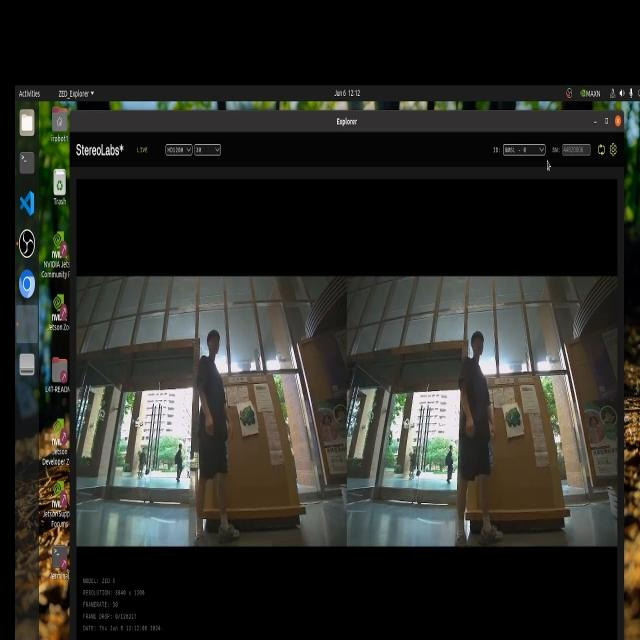green: (234, 400, 258, 425), (507, 406, 522, 438)
